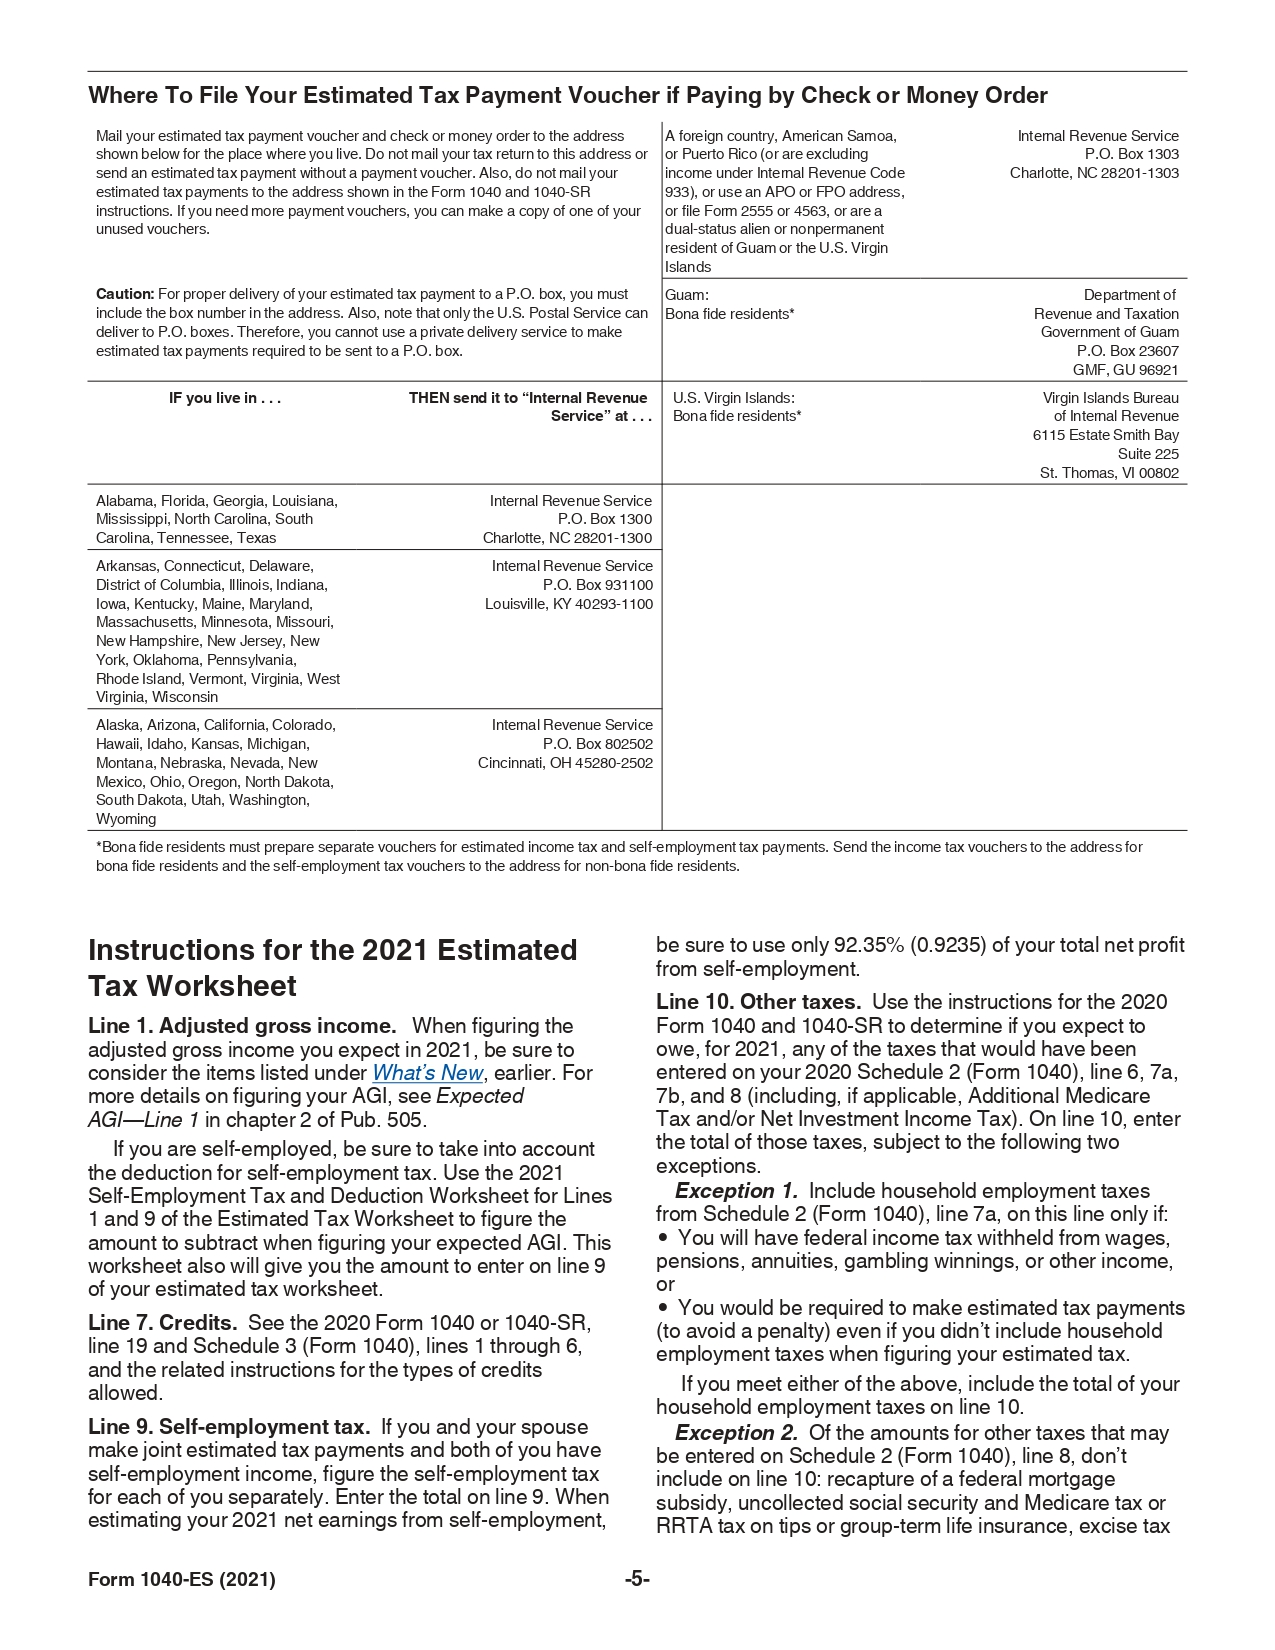table: (87, 118, 1199, 840)
